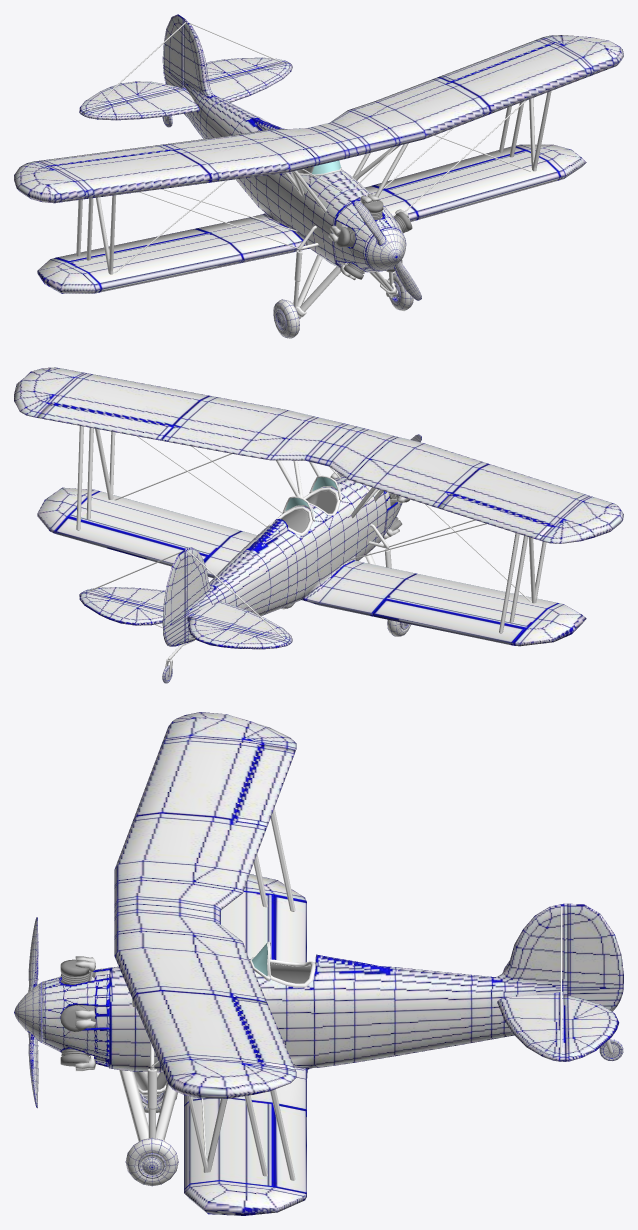
The picture shows the model from 3 angles, top to bottom: view 1: azimuth 30°, elevation 25°; view 2: azimuth 150°, elevation 25°; view 3: azimuth 270°, elevation 25°; orthographic projection. The views are drawn at different scales.
Visible parts, largest first — view 1: TopWing, Fuselage, TailHoriz, WingStruts, Elevator, SpanWires, EngCowling1, Engine, Rudder, PropCone, L_TopAileron, LBotAileron (+6 smaller); view 2: Fuselage, TopWing, Elevator, RBotAileron, WingStruts, TailHoriz, LBotAileron, L_TopAileron, R_TopAileron, Rudder, SpanWires, CockpitTrim (+2 smaller); view 3: TopWing, Fuselage, Rudder, EngCowling1, TailHoriz, R_TopAileron, Elevator, LBotAileron, Engine, L_TopAileron, RBotAileron, LWheel (+4 smaller).
Boxes of the visible parts, x1=… form: TopWing: x1=14, y1=35, x2=623, y2=203; Fuselage: x1=37, y1=18, x2=586, y2=293; TailHoriz: x1=81, y1=61, x2=292, y2=120; WingStruts: x1=86, y1=91, x2=551, y2=274; Elevator: x1=79, y1=57, x2=286, y2=113; SpanWires: x1=88, y1=22, x2=531, y2=273; EngCowling1: x1=333, y1=202, x2=403, y2=272; Engine: x1=328, y1=194, x2=412, y2=280; Rudder: x1=162, y1=14, x2=183, y2=87; PropCone: x1=365, y1=227, x2=406, y2=271; L_TopAileron: x1=438, y1=38, x2=551, y2=81; LBotAileron: x1=373, y1=146, x2=525, y2=189; Fuselage: x1=37, y1=475, x2=586, y2=646; TopWing: x1=14, y1=367, x2=623, y2=543; Elevator: x1=79, y1=592, x2=289, y2=649; RBotAileron: x1=373, y1=599, x2=525, y2=645; WingStruts: x1=86, y1=427, x2=546, y2=622; TailHoriz: x1=83, y1=587, x2=292, y2=643; LBotAileron: x1=55, y1=517, x2=208, y2=566; L_TopAileron: x1=37, y1=403, x2=173, y2=440; R_TopAileron: x1=438, y1=493, x2=552, y2=540; Rudder: x1=162, y1=550, x2=185, y2=646; SpanWires: x1=88, y1=436, x2=531, y2=638; CockpitTrim: x1=267, y1=487, x2=340, y2=535; TopWing: x1=114, y1=712, x2=296, y2=1098; Fuselage: x1=109, y1=874, x2=567, y2=1215; Rudder: x1=567, y1=903, x2=623, y2=1011; EngCowling1: x1=42, y1=967, x2=109, y2=1067; TailHoriz: x1=497, y1=960, x2=565, y2=1061; R_TopAileron: x1=233, y1=744, x2=295, y2=826; Elevator: x1=563, y1=994, x2=619, y2=1061; LBotAileron: x1=274, y1=1105, x2=306, y2=1193; Engine: x1=60, y1=956, x2=95, y2=1071; L_TopAileron: x1=233, y1=996, x2=295, y2=1069; RBotAileron: x1=274, y1=895, x2=306, y2=962; LWheel: x1=125, y1=1138, x2=178, y2=1186.
Bounding box in the file's own units: 8.14 × 2.54 × 5.53.
Materials: 11 (6 with a texture image).
